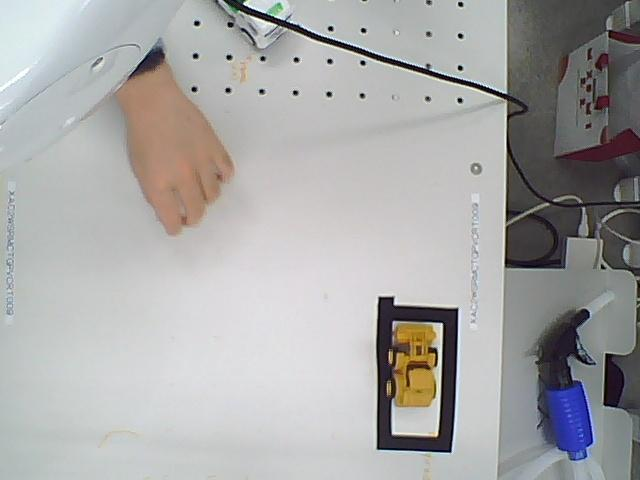Electric car: (212, 0, 299, 49)
Gasoline car: (383, 317, 440, 412)
